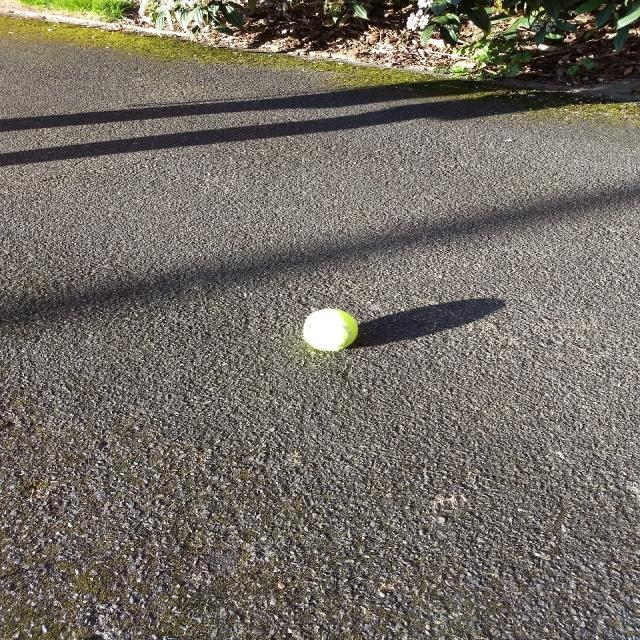ball: (302, 306, 359, 352)
